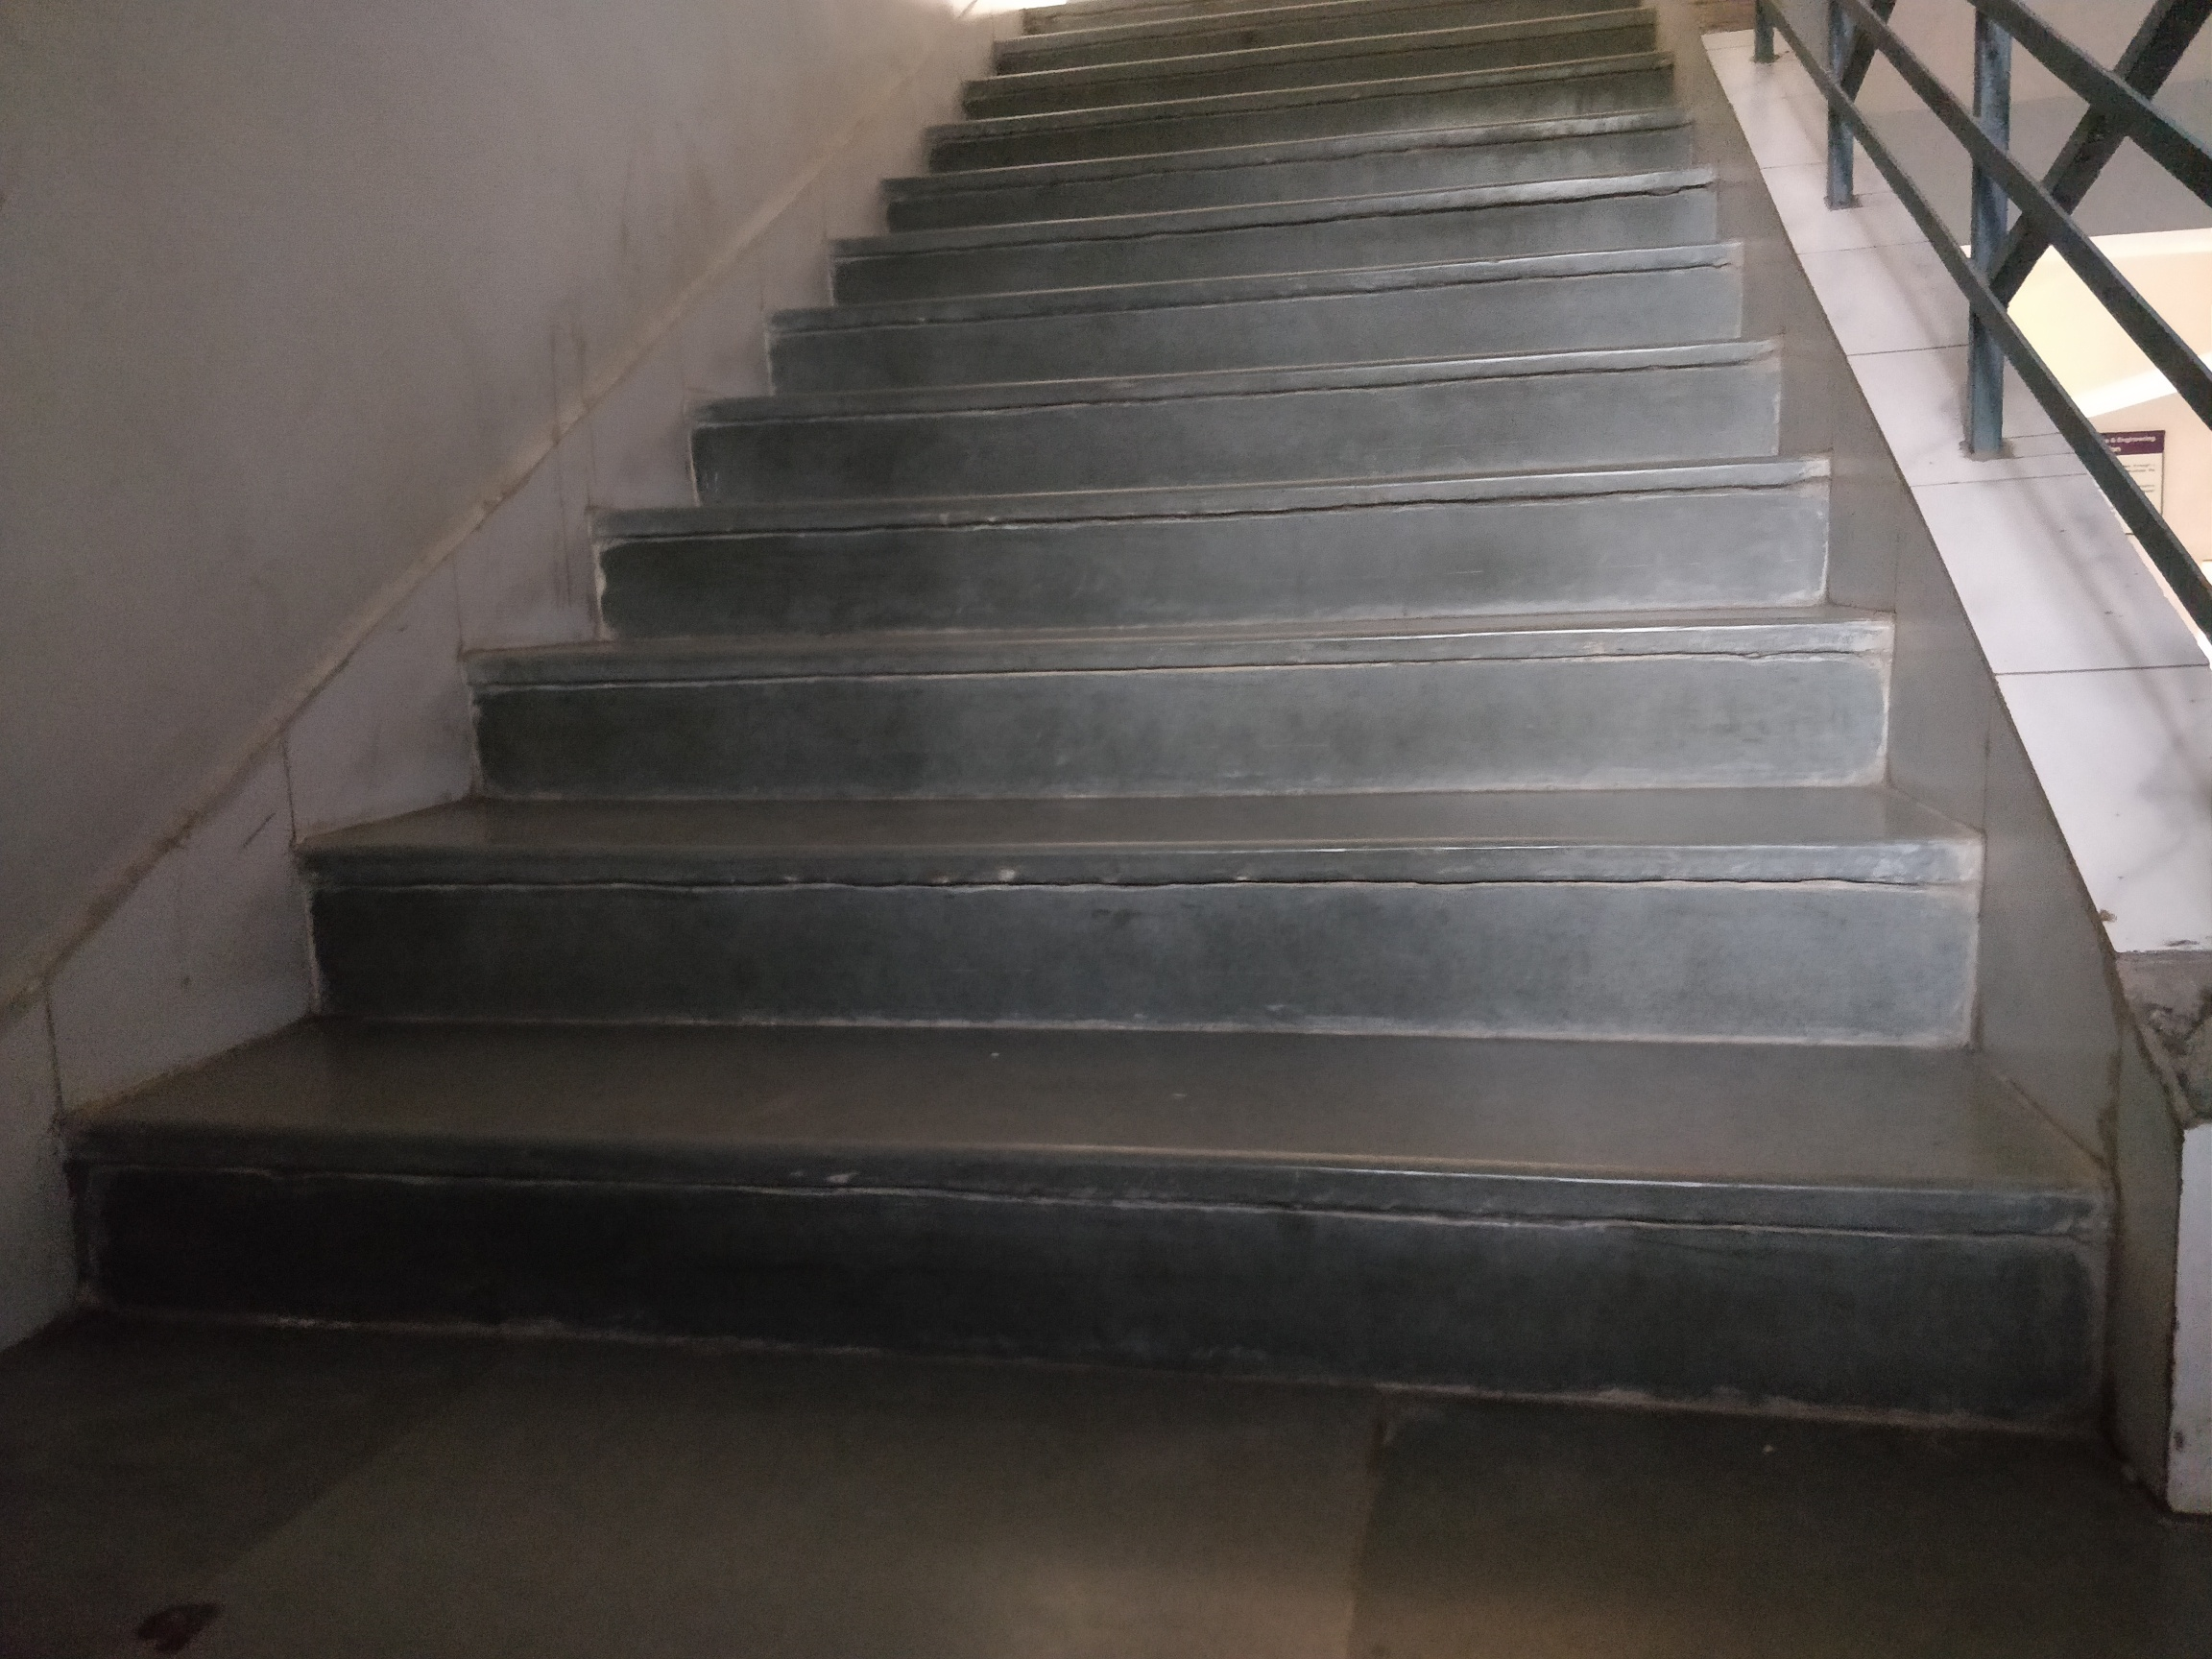stairs_up: (136, 26, 2013, 1455)
